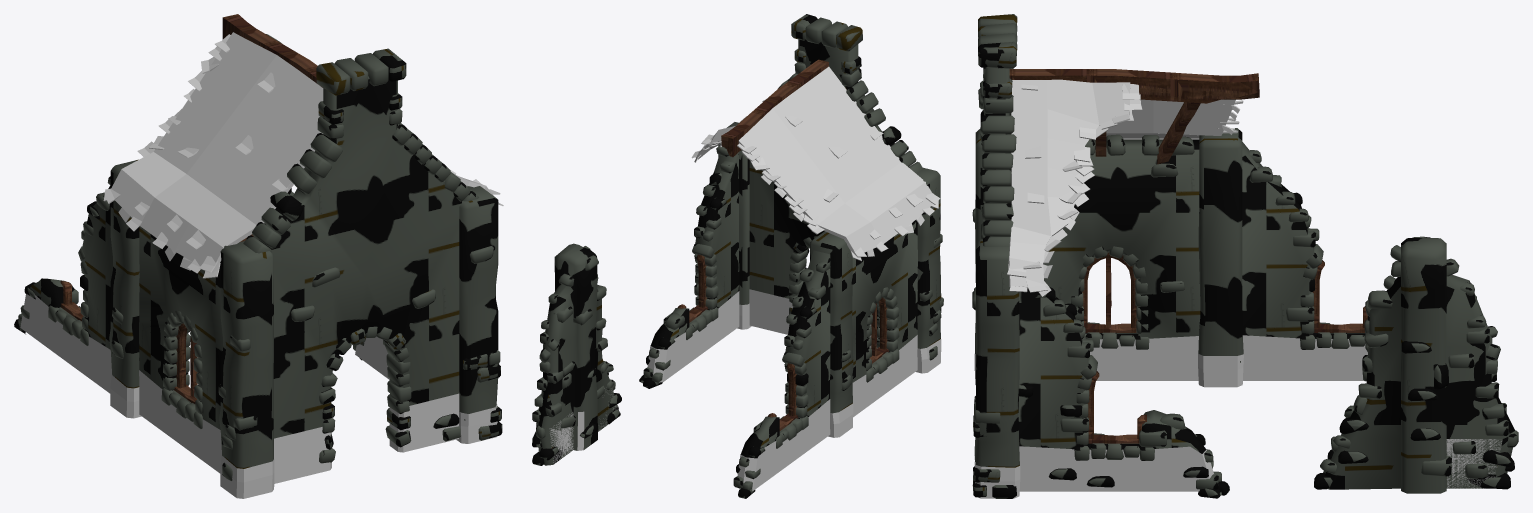
3 renders of one model, left to right at view 1: azimuth 30°, elevation 25°; view 2: azimuth 150°, elevation 25°; view 3: azimuth 270°, elevation 25°, orthographic. The views are drawn at different scales.
Parts seen in each view (by area): view 1: building_ruin0, building_ruin0.roof, building_ruin0.detail, grunge.001, building_ruin0.roof_detail, building_ruin0.wood, building_ruin0.window.001; view 2: building_ruin0, building_ruin0.roof, building_ruin0.detail, grunge.001, wall_ruins1, wall_ruins1.detail, building_ruin0.roof_detail, building_ruin0.wood, wall1_ruins.grunge, building_ruin0.window.001, building_ruin0.window.002, building_ruin0.window; view 3: building_ruin0, wall_ruins1, building_ruin0.detail, grunge.001, building_ruin0.roof, wall_ruins1.detail, building_ruin0.wood, building_ruin0.roof_detail, building_ruin0.window.001, wall1_ruins.grunge, building_ruin0.window, building_ruin0.window.002.
Boxes of the visible parts, x1,y1,x2,y2 form: building_ruin0: [30, 76, 499, 468]; building_ruin0.roof: [111, 32, 498, 273]; building_ruin0.detail: [14, 48, 502, 480]; grunge.001: [20, 294, 497, 498]; building_ruin0.roof_detail: [103, 34, 503, 278]; building_ruin0.wood: [222, 14, 322, 241]; building_ruin0.window.001: [174, 323, 197, 403]; building_ruin0: [650, 39, 941, 458]; building_ruin0.roof: [695, 66, 932, 255]; building_ruin0.detail: [639, 14, 943, 498]; grunge.001: [647, 289, 941, 491]; wall_ruins1: [536, 243, 620, 465]; wall_ruins1.detail: [532, 246, 621, 465]; building_ruin0.roof_detail: [691, 99, 940, 261]; building_ruin0.wood: [721, 59, 828, 157]; wall1_ruins.grunge: [549, 388, 618, 463]; building_ruin0.window.001: [869, 297, 888, 363]; building_ruin0.window.002: [767, 363, 798, 430]; building_ruin0.window: [677, 254, 707, 322]; building_ruin0: [974, 67, 1369, 467]; wall_ruins1: [1323, 238, 1514, 493]; building_ruin0.detail: [972, 14, 1369, 498]; grunge.001: [974, 138, 1367, 498]; building_ruin0.roof: [1008, 79, 1235, 288]; wall_ruins1.detail: [1314, 236, 1518, 489]; building_ruin0.wood: [1009, 69, 1259, 164]; building_ruin0.roof_detail: [1007, 84, 1243, 296]; building_ruin0.window.001: [1082, 252, 1137, 332]; wall1_ruins.grunge: [1446, 439, 1502, 488]; building_ruin0.window: [1087, 371, 1146, 443]; building_ruin0.window.002: [1312, 260, 1367, 332].
Size of what is drawn, in the model's own units: 5.05 by 6.4 by 7.79.
